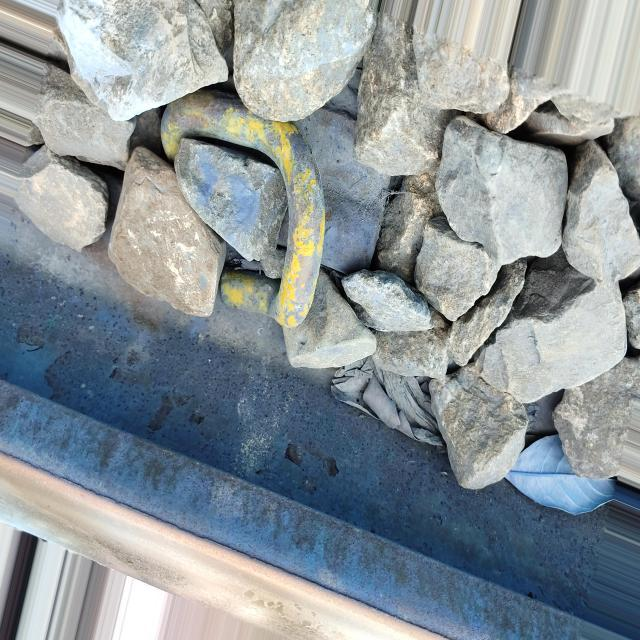Good Fasteners: (162, 84, 394, 352)
